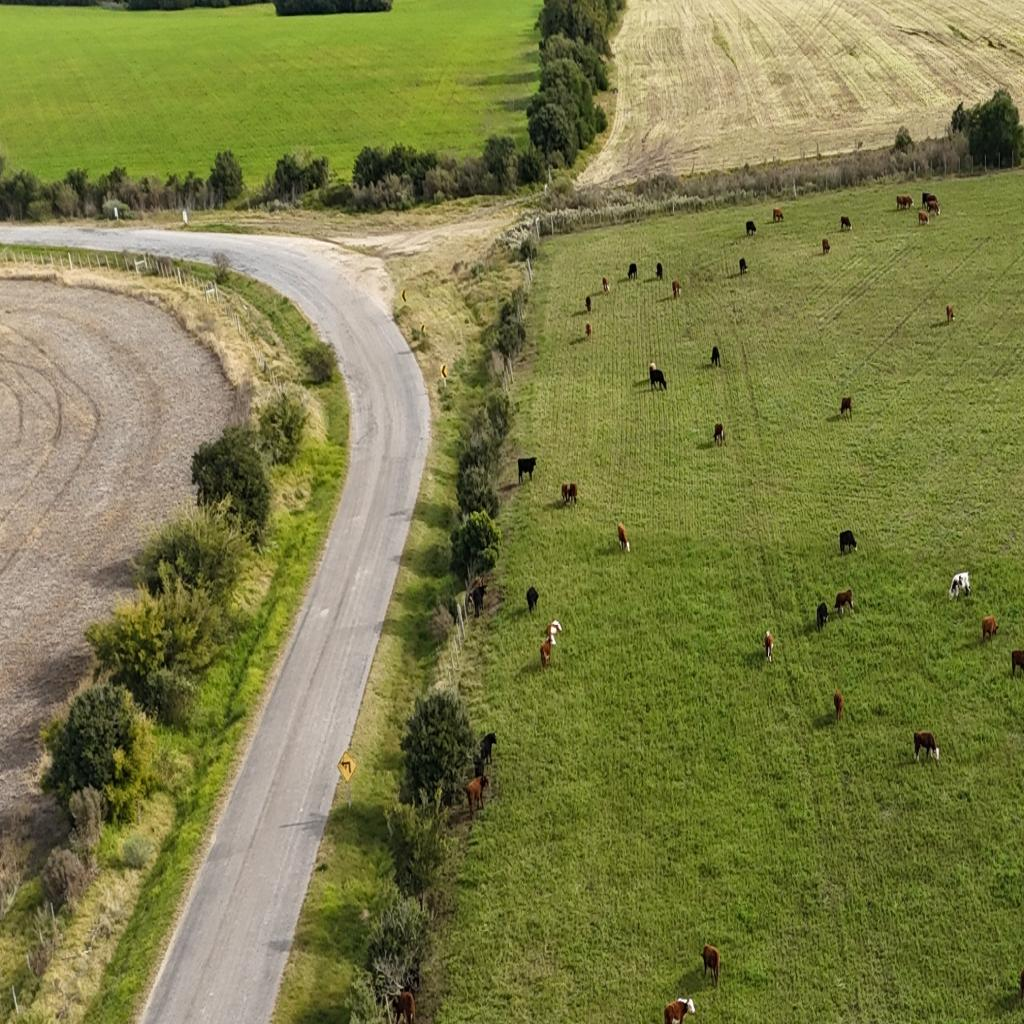cow: (464, 775, 491, 818), (662, 994, 694, 1024), (913, 730, 940, 764), (392, 989, 415, 1024), (701, 943, 720, 984), (948, 571, 971, 601), (478, 732, 498, 766), (469, 584, 486, 620), (834, 588, 854, 616), (544, 618, 563, 646), (518, 456, 536, 484), (839, 530, 858, 556), (982, 616, 999, 644), (540, 638, 551, 673), (526, 586, 539, 615), (816, 602, 828, 633), (618, 522, 630, 552), (764, 630, 774, 664), (654, 369, 667, 392), (834, 690, 843, 722), (840, 396, 853, 418), (714, 422, 725, 446), (568, 482, 577, 511), (1016, 648, 1024, 678), (561, 482, 571, 504), (710, 346, 720, 368), (927, 201, 940, 216), (840, 216, 851, 232), (918, 210, 929, 226), (627, 263, 637, 280), (773, 208, 784, 223), (672, 280, 681, 298), (946, 304, 955, 322), (746, 221, 756, 237), (901, 196, 912, 210), (1020, 966, 1024, 1002), (602, 277, 610, 294), (740, 258, 748, 275), (918, 192, 928, 205), (822, 239, 830, 254), (586, 321, 592, 339), (585, 295, 591, 313), (656, 262, 662, 280), (650, 362, 656, 373)
